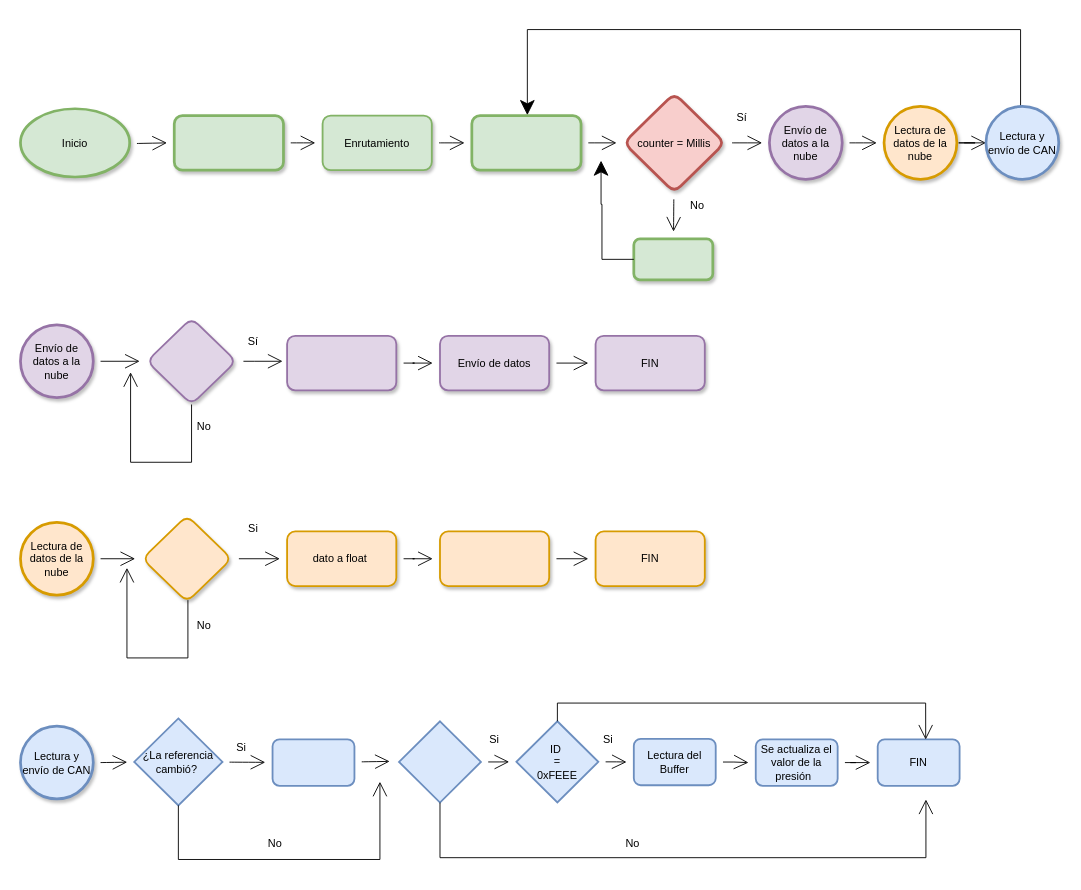
The diagram is 1081 pixels wide and 890 high, and some of its shapes have lost their labels. Here are the shapes that lost their labels. From the top down, the centre of each, then its label:
(x=229, y=143): Iniciar: CAN , WIFI, FIREBASE
(x=526, y=143): Millis = 0.5s Counter = 0.
(x=673, y=260): Counter++
(x=192, y=362): Firebase = Escritura
(x=342, y=364): Envío de Enrutamiento
(x=187, y=560): Firebase = lectua
(x=495, y=559): Float a 4 bytes
(x=313, y=762): Se envía la referencia via CAN
(x=439, y=761): CAN BUS = leyendo
